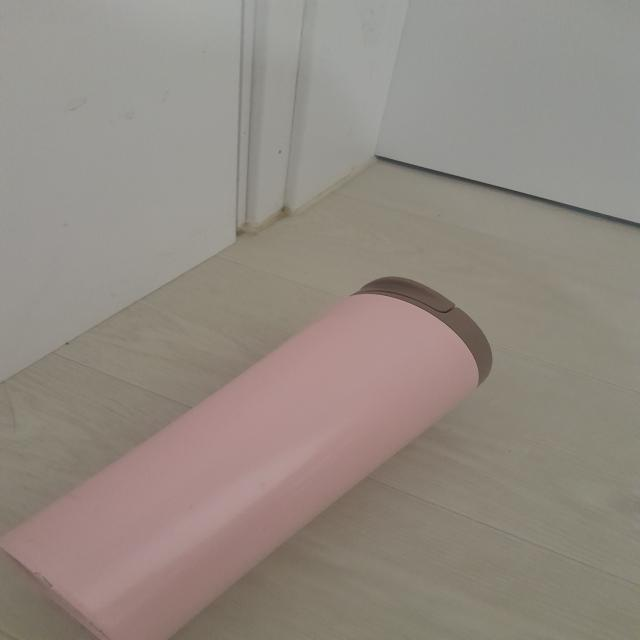waterbottle: (0, 279, 494, 637)
